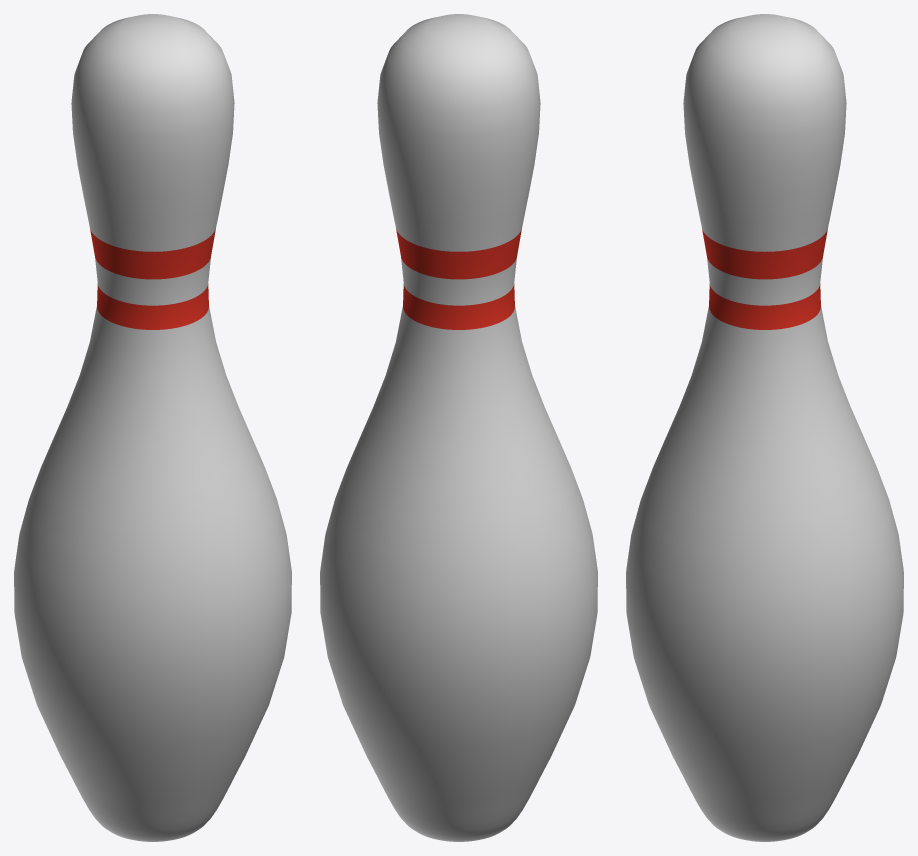
File: pin_no.2.glb
3 views of the same model, side by side, from view 1: azimuth 30°, elevation 25°; view 2: azimuth 150°, elevation 25°; view 3: azimuth 270°, elevation 25° (orthographic).
Parts seen in each view (by area): view 1: Pin; view 2: Pin; view 3: Pin.
Boxes of the visible parts, left/top/right/bottom form: Pin: left=14, top=14, right=291, bottom=841; Pin: left=320, top=14, right=597, bottom=841; Pin: left=626, top=14, right=903, bottom=841.
Size of the model in its own units: 1.19 by 3.8 by 1.19.
